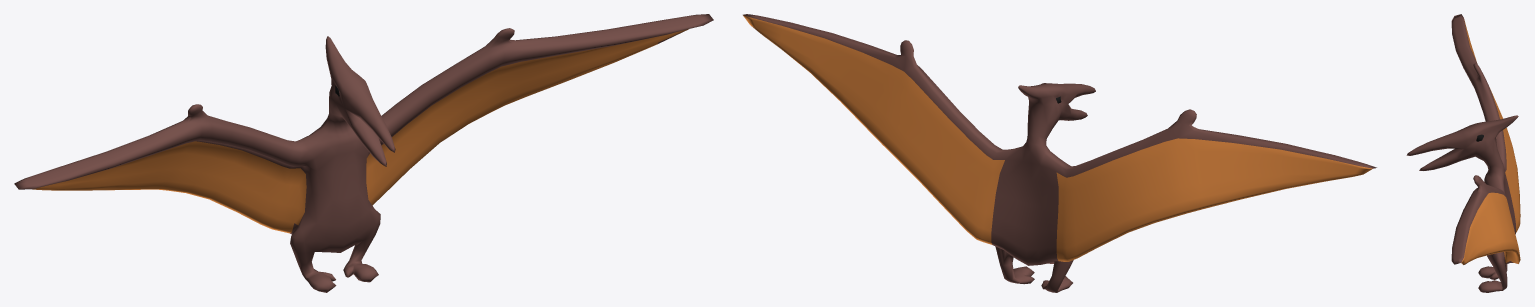
3 views of the same model, side by side, from view 1: azimuth 30°, elevation 25°; view 2: azimuth 150°, elevation 25°; view 3: azimuth 270°, elevation 25° (orthographic). The views are drawn at different scales.
Visible parts, largest first — view 1: pterodactyl; view 2: pterodactyl; view 3: pterodactyl.
Boxes of the visible parts, x1,y1,x2,y2 form: pterodactyl: (14, 14, 713, 292); pterodactyl: (743, 14, 1376, 292); pterodactyl: (1406, 14, 1520, 292).
Size of the model in its own units: 156 by 49.82 by 30.25.
